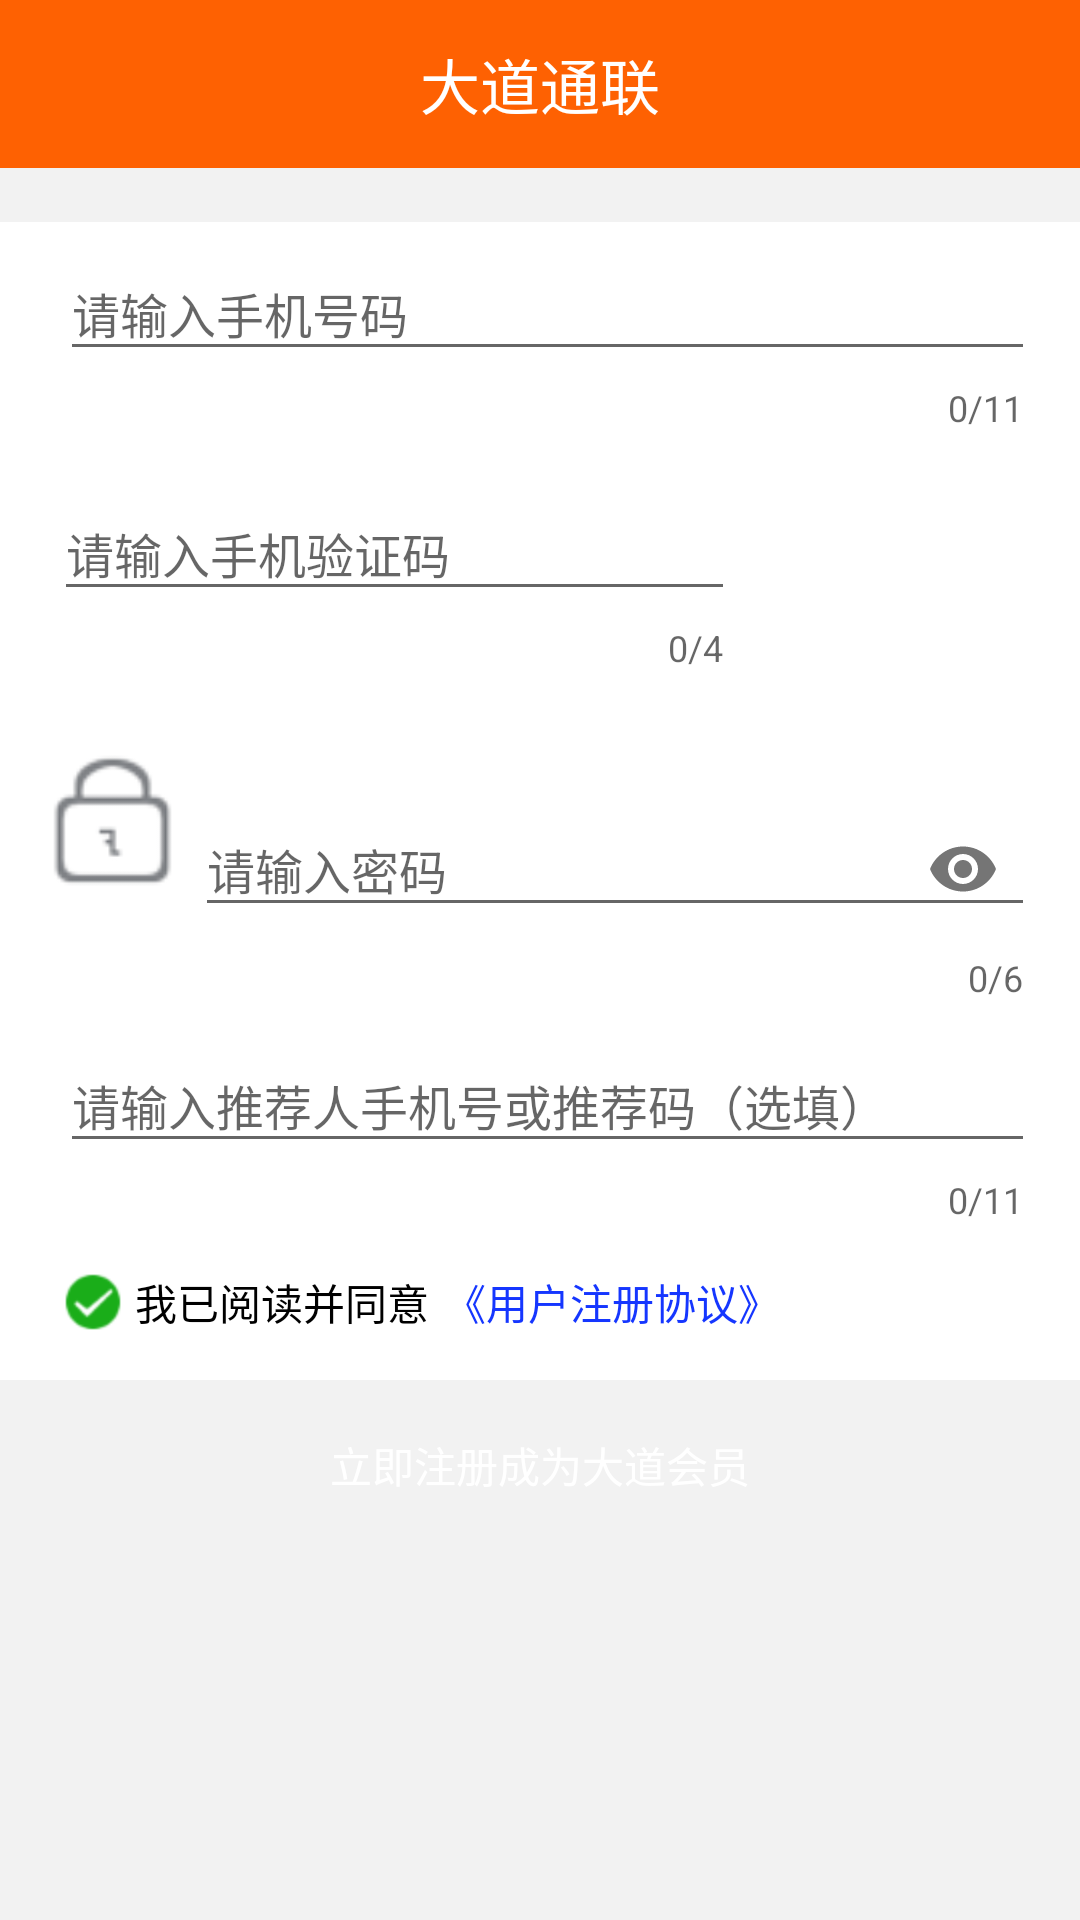

Icons on this 1080 x 1920 Android screen, each with the point to tap as point (x, y):
login password: point (112, 820)
